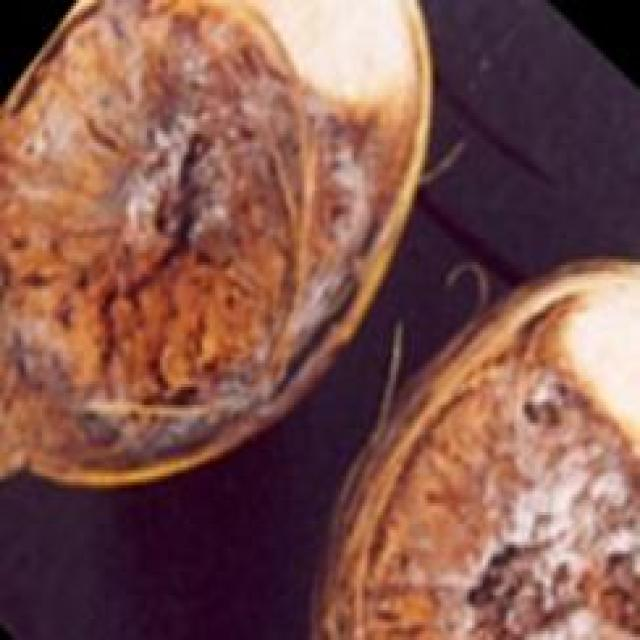damaged: (0, 0, 430, 482), (315, 262, 637, 637)
